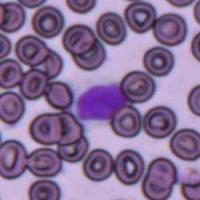L: (77, 82, 127, 122)
